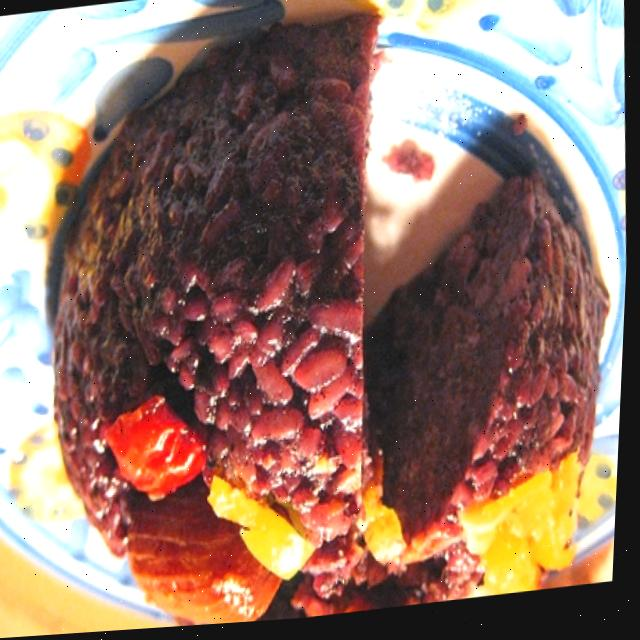米饭主食: (9, 0, 640, 638)
